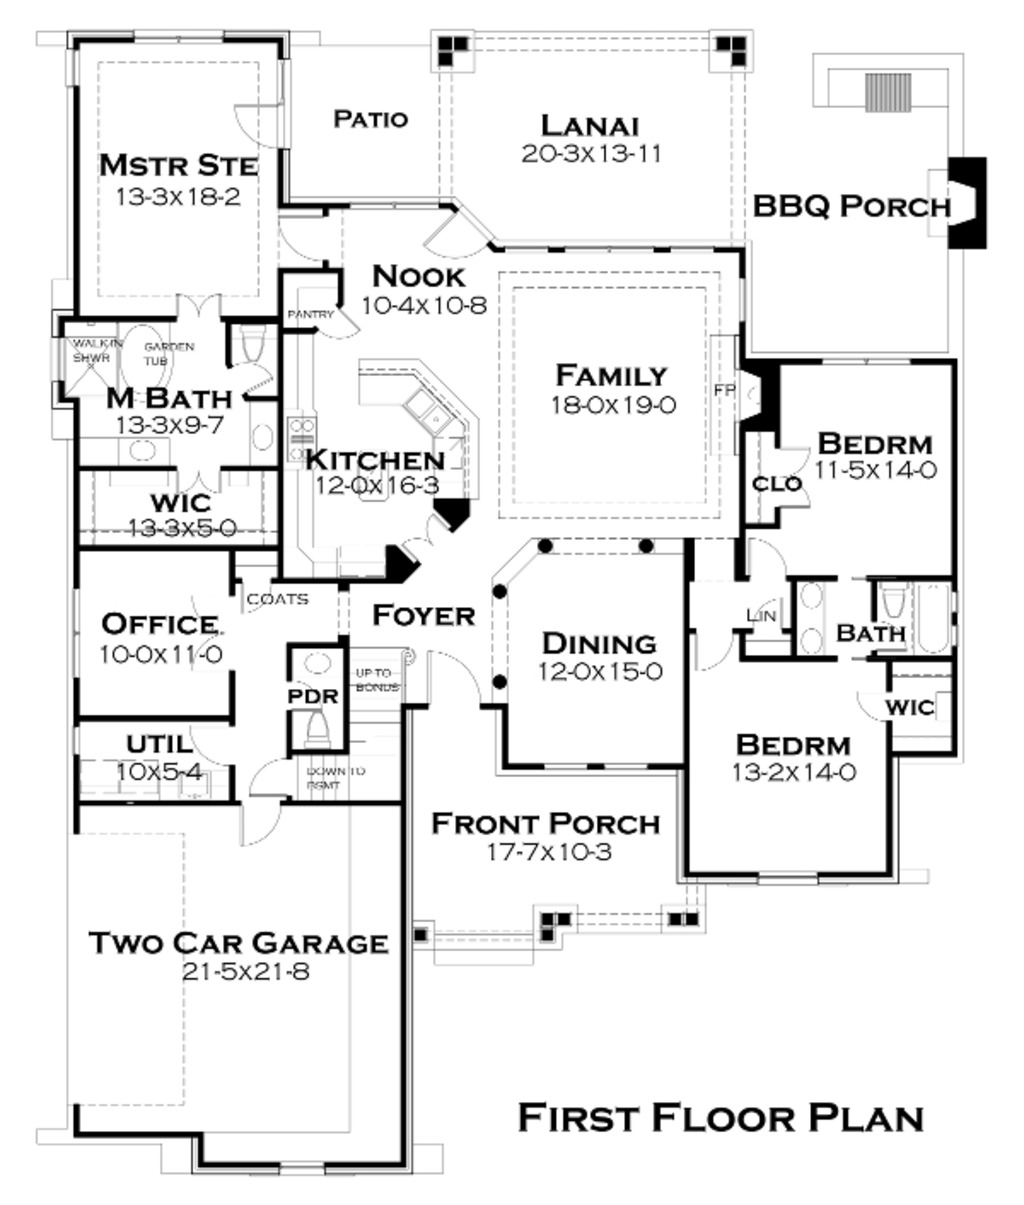door: (409, 198, 501, 280), (177, 583, 248, 676), (270, 198, 351, 274), (386, 500, 468, 572), (414, 652, 494, 711), (677, 611, 742, 682), (772, 432, 820, 517), (225, 98, 292, 156), (738, 530, 807, 587), (159, 280, 235, 330), (301, 296, 359, 350), (186, 717, 244, 770), (840, 672, 894, 726), (242, 798, 292, 857), (173, 459, 231, 504), (244, 754, 298, 800)
large_sink: (286, 704, 351, 754), (872, 574, 910, 626), (229, 320, 272, 365)
small_sink: (98, 433, 175, 470), (799, 578, 831, 661), (248, 398, 283, 465), (299, 639, 349, 683)
tub: (912, 578, 957, 656)
twin_sink: (377, 365, 470, 446)
window: (531, 752, 668, 783), (64, 585, 94, 685), (127, 22, 227, 48), (749, 867, 822, 900)
